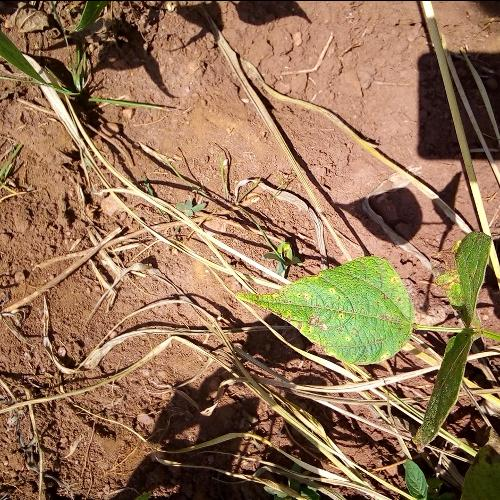hawar: (285, 264, 423, 342)
